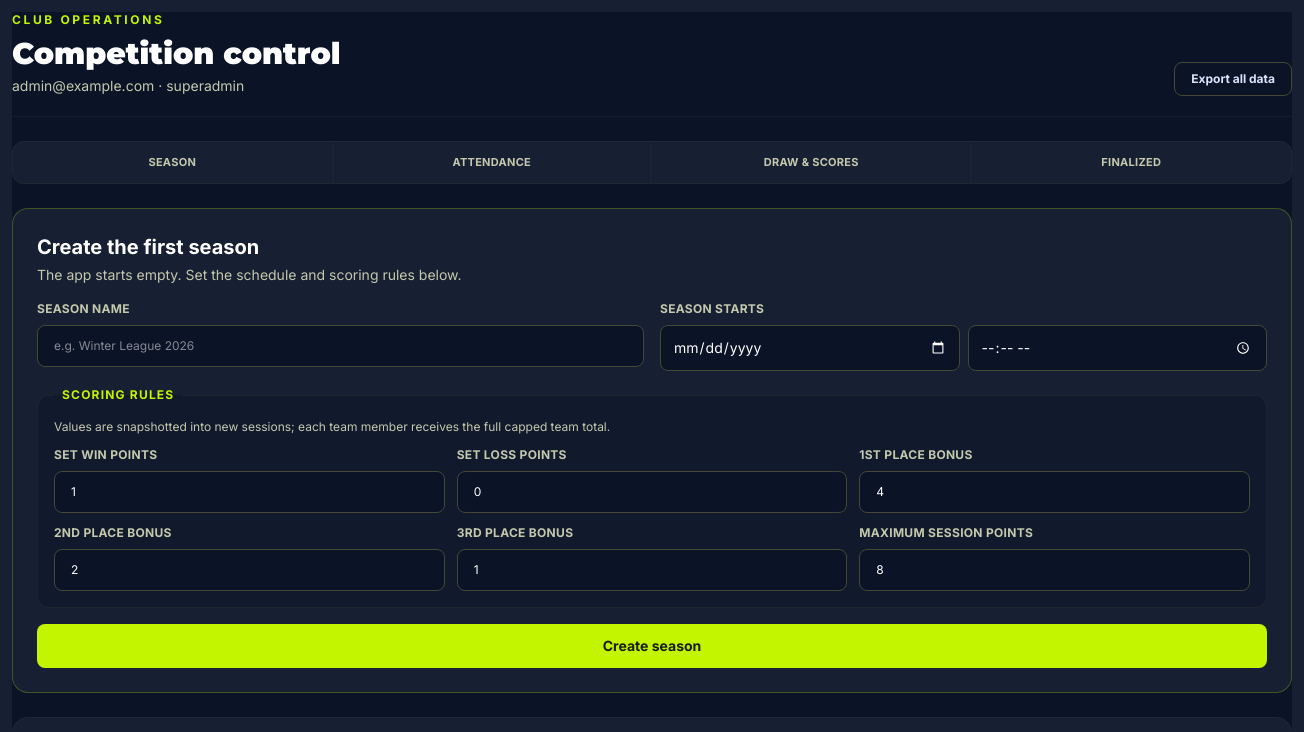
it: season point rule forms › shows feedback and does not request when a submitted scoring value is empty
The image size is (1304, 732).
Clear the number field labelled "3rd place bonus" at [652, 570], box [457, 549, 847, 591]
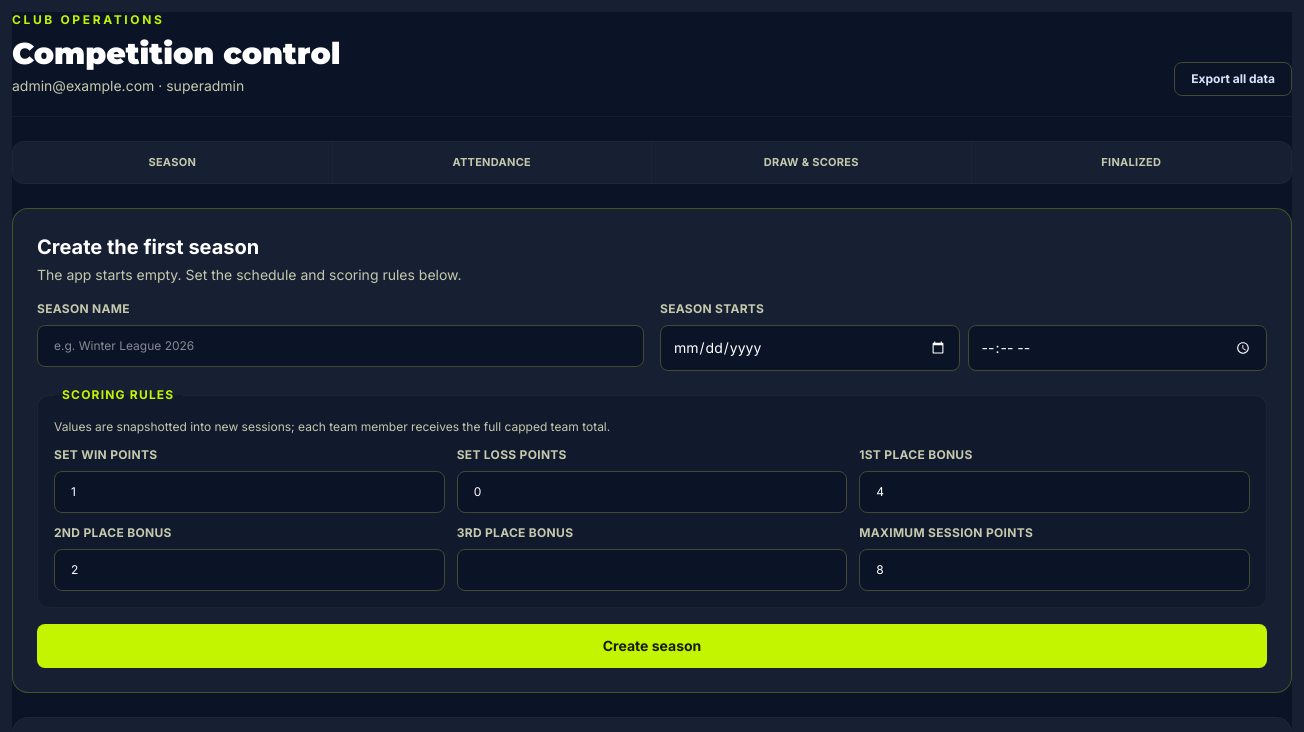
Submit the form named "Create season"
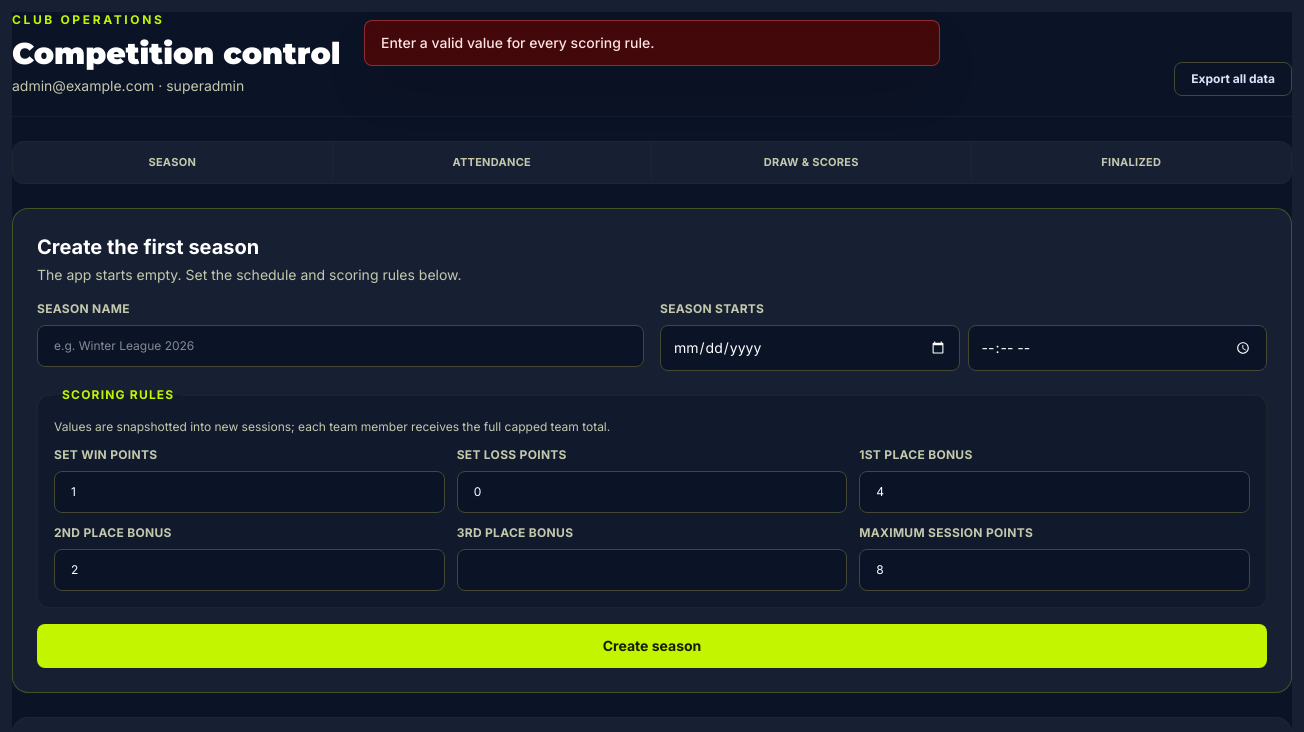
Now the message reads "Enter a valid value for every scoring rule.", box [381, 34, 654, 51]
